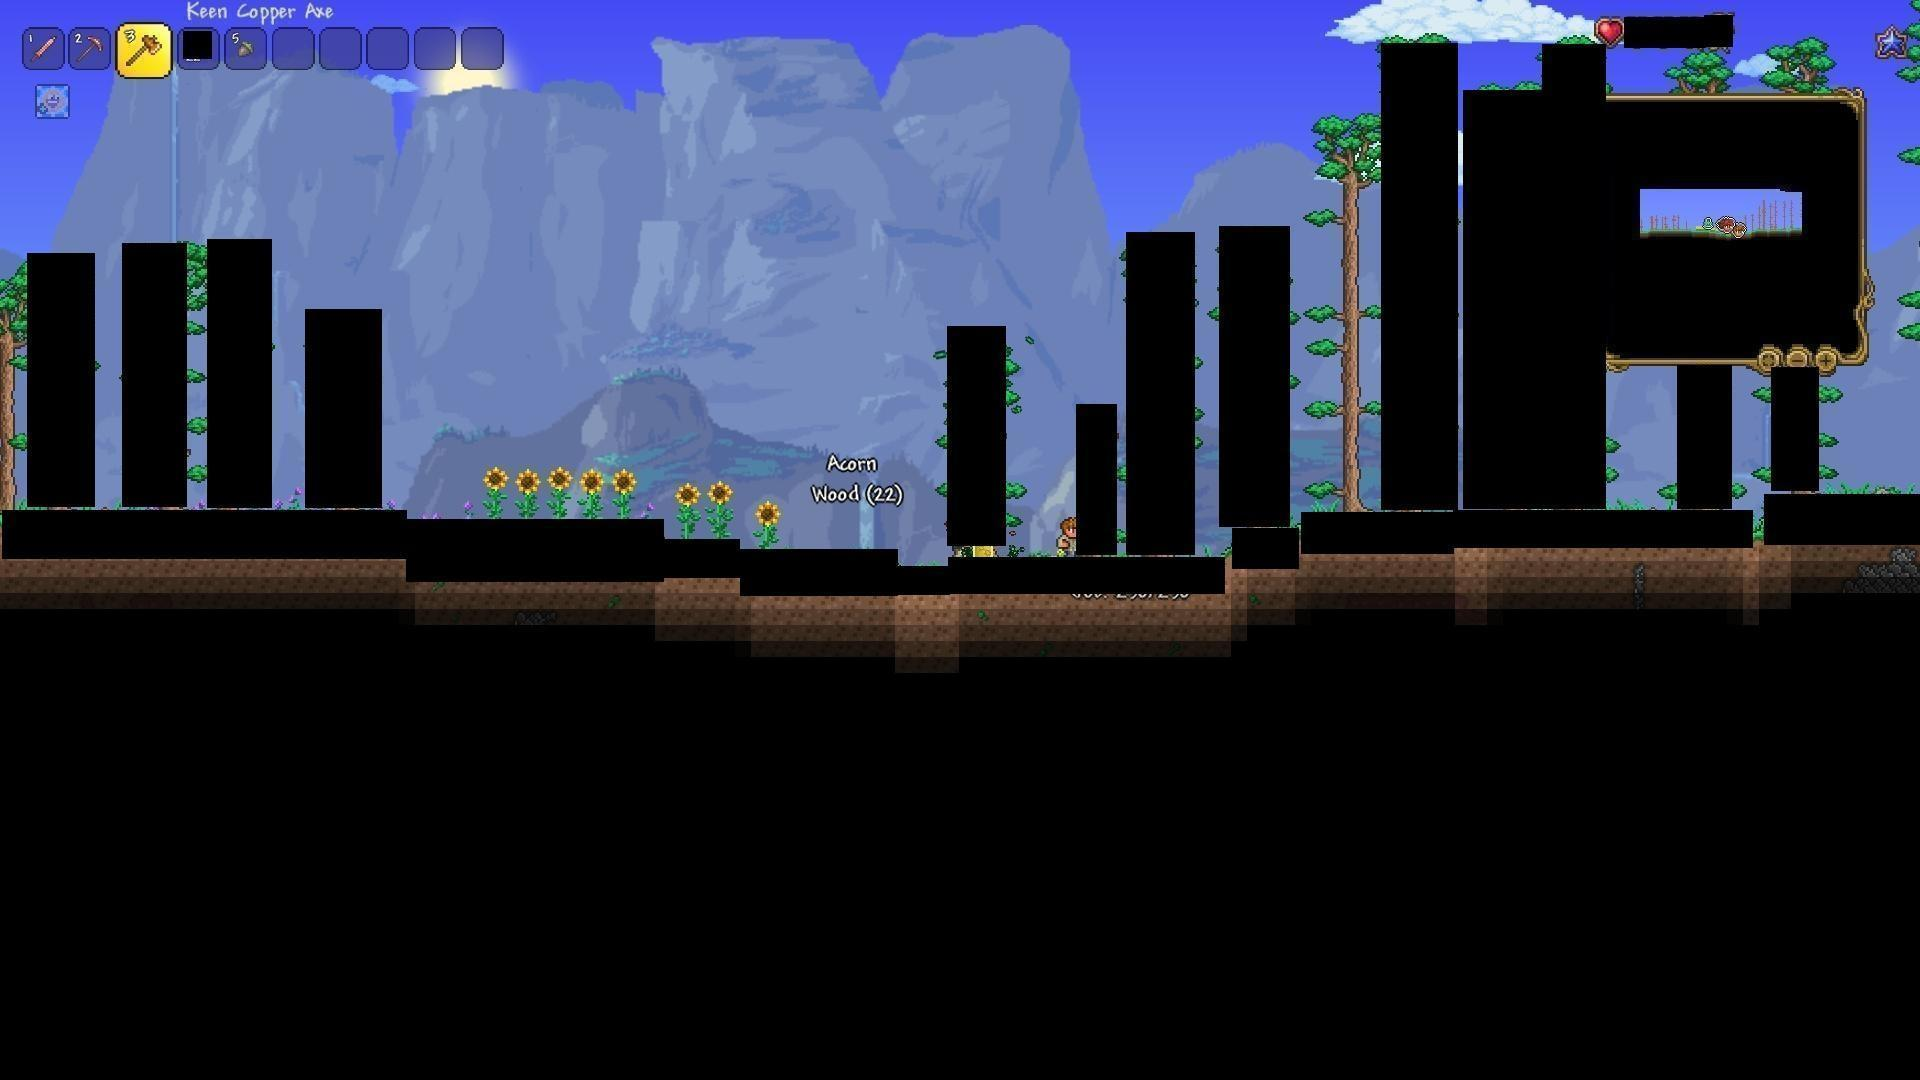heart: (1598, 16, 1630, 46)
tree: (1305, 102, 1379, 508), (0, 272, 24, 509)
